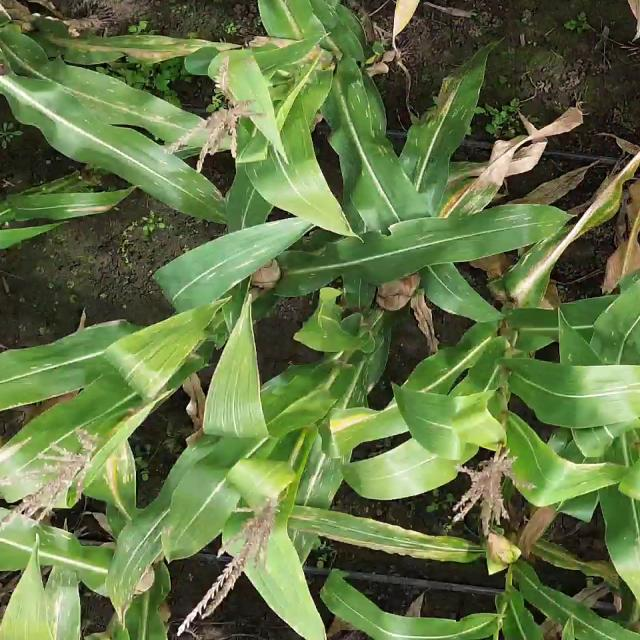gray-leaf-spot: (147, 155, 223, 207), (346, 79, 398, 155), (250, 131, 321, 179), (344, 516, 437, 552), (114, 533, 154, 603), (196, 246, 277, 280), (44, 574, 90, 630), (418, 101, 467, 148), (304, 458, 346, 511), (493, 204, 556, 238), (103, 440, 144, 490), (346, 371, 381, 412), (30, 527, 76, 550)
northern-leaf-blight: (507, 238, 567, 295), (78, 34, 192, 62), (321, 412, 382, 448), (56, 198, 116, 218)
southern-leaf-blight: (10, 42, 90, 92), (100, 85, 170, 129), (598, 317, 627, 367)
